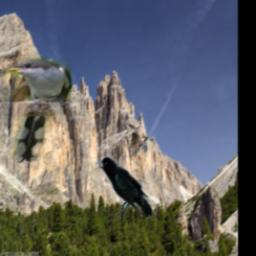Crow: (96, 157, 153, 219), (127, 121, 149, 157)
Cuckoo: (1, 59, 72, 164)
